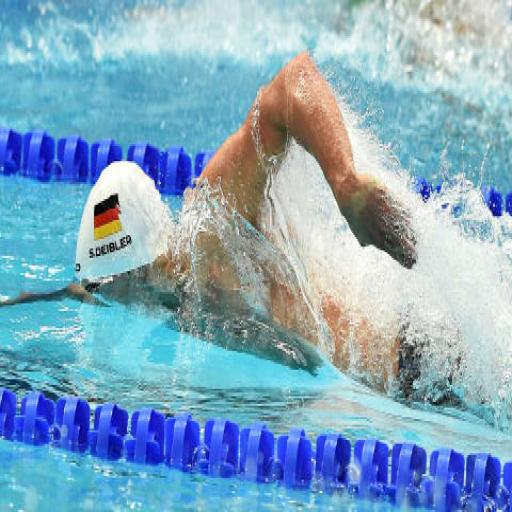swimming: (1, 47, 508, 427)
